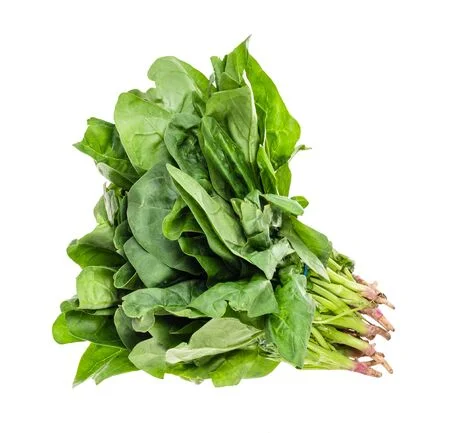Bayam: (35, 45, 402, 415)
